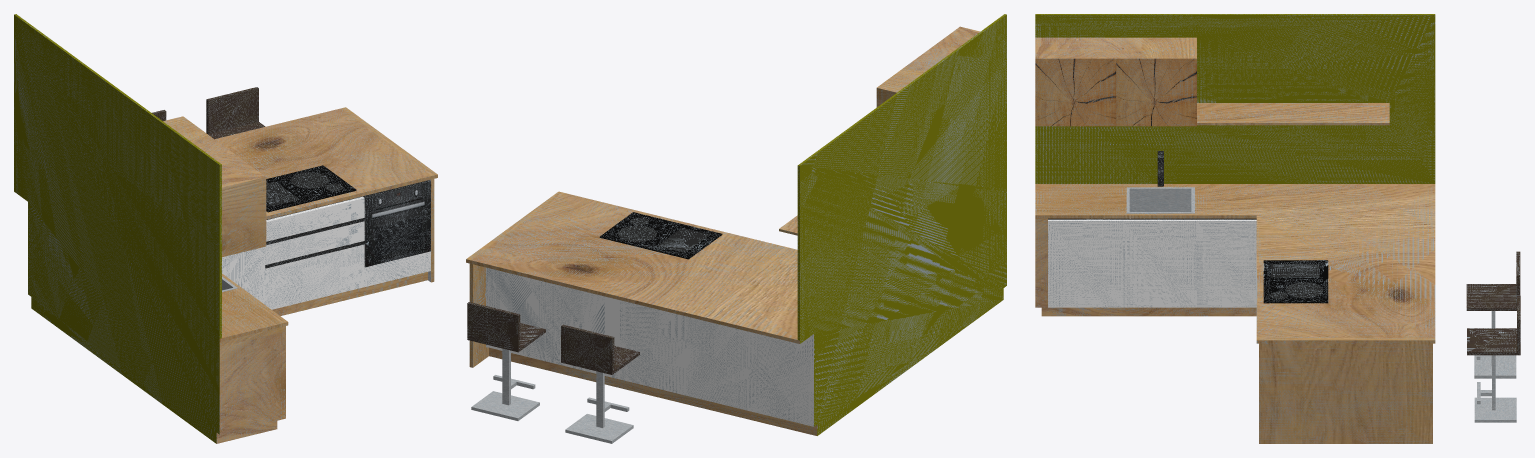
3 views of the same model, side by side, from view 1: azimuth 30°, elevation 25°; view 2: azimuth 150°, elevation 25°; view 3: azimuth 270°, elevation 25° (orthographic). The views are drawn at different scales.
Parts seen in each view (by area): view 1: SketchUp (×10); view 2: SketchUp (×15); view 3: SketchUp (×16).
Part boxes in pixels (x1,y1,x2,y2): SketchUp (×10): (14, 14, 437, 443); SketchUp (×15): (466, 14, 1006, 443); SketchUp (×16): (1035, 14, 1520, 443).
Bounding box in the file's own units: 118 × 154 × 95.67.
Materials: 12 (7 with a texture image).
